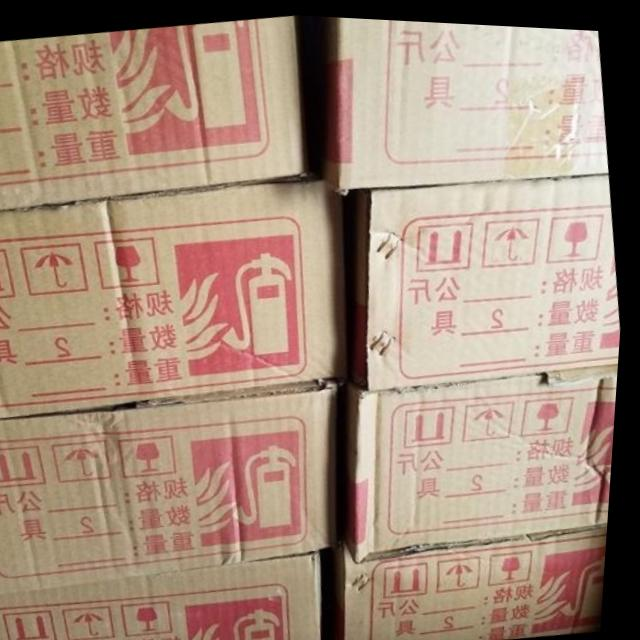box: (0, 175, 352, 419), (0, 380, 346, 593), (0, 14, 307, 211), (351, 169, 624, 388), (350, 357, 623, 561), (321, 13, 611, 186), (347, 522, 614, 640), (4, 546, 330, 640)
